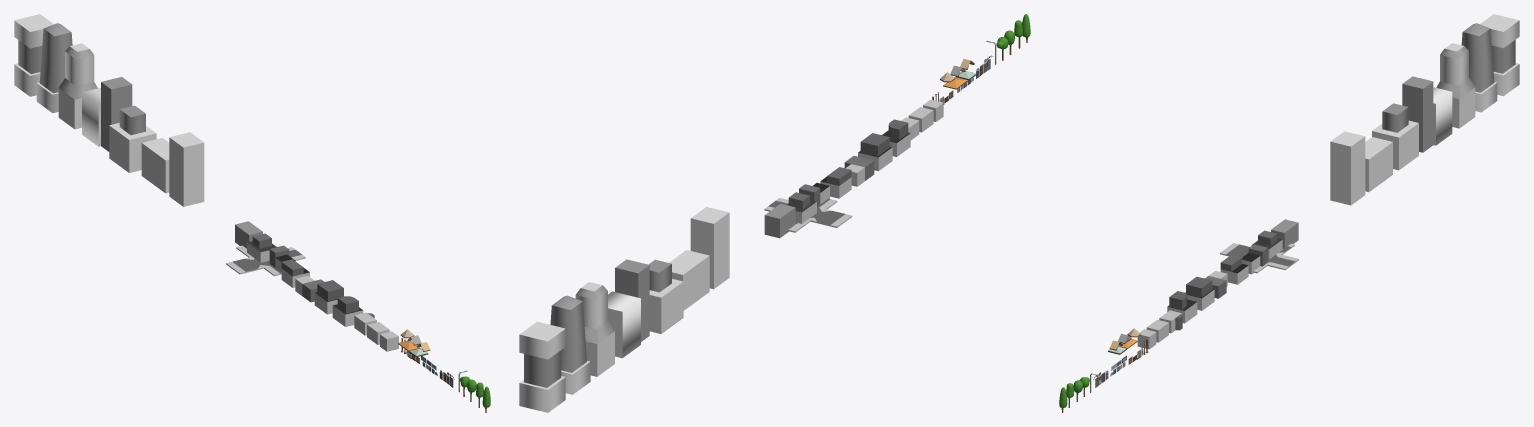
The model's file is CitttyMakerSuperPack.fbx.
3 renders of one model, left to right at view 1: azimuth 30°, elevation 25°; view 2: azimuth 150°, elevation 25°; view 3: azimuth 330°, elevation 25°, orthographic. The views are drawn at different scales.
Visible parts, largest first — view 1: Building(1), Building(4), Building(5), Building(6), Building(3), Building(7), Building(2), Home(5), Home(4), Home(9), Home(7), Home(6) (+1 smaller); view 2: Building(7), Building(4), Building(6), Building(5), Building(1), Building(3), Building(2), Home(5), Home(10), Home(4), Home(7), Home(6) (+2 smaller); view 3: Building(4), Building(1), Building(5), Building(6), Building(7), Building(3), Building(2), Home(5), Home(7), Home(4), Home(10), Home(8) (+1 smaller).
Part boxes in pixels (<box>): Building(1): <box>169,132,204,206</box>; Building(4): <box>82,77,132,151</box>; Building(5): <box>58,43,97,129</box>; Building(6): <box>36,23,72,113</box>; Building(3): <box>109,105,156,172</box>; Building(7): <box>14,14,53,96</box>; Building(2): <box>141,138,169,193</box>; Home(5): <box>314,280,343,314</box>; Home(4): <box>332,296,363,326</box>; Home(9): <box>247,233,276,262</box>; Home(7): <box>281,259,309,287</box>; Home(6): <box>295,275,323,302</box>; Building(7): <box>519,321,565,412</box>; Building(4): <box>608,259,649,358</box>; Building(6): <box>550,295,590,394</box>; Building(5): <box>575,282,614,376</box>; Building(1): <box>690,207,729,289</box>; Building(3): <box>649,259,683,333</box>; Building(2): <box>669,250,709,310</box>; Home(5): <box>858,133,892,171</box>; Home(10): <box>764,203,795,238</box>; Home(4): <box>882,119,910,156</box>; Home(7): <box>820,167,851,198</box>; Home(6): <box>844,156,874,186</box>; Building(4): <box>1402,76,1452,152</box>; Building(1): <box>1330,131,1365,205</box>; Building(5): <box>1436,43,1475,128</box>; Building(6): <box>1461,23,1497,112</box>; Building(7): <box>1480,14,1519,96</box>; Building(3): <box>1372,103,1418,170</box>; Building(2): <box>1365,137,1392,191</box>; Home(5): <box>1185,276,1214,310</box>; Home(7): <box>1220,254,1248,284</box>; Home(4): <box>1167,291,1197,323</box>; Home(10): <box>1271,219,1298,248</box>; Home(8): <box>1242,244,1267,274</box>.
Bounding box in the file's own units: 1100 × 1320 × 13138.
